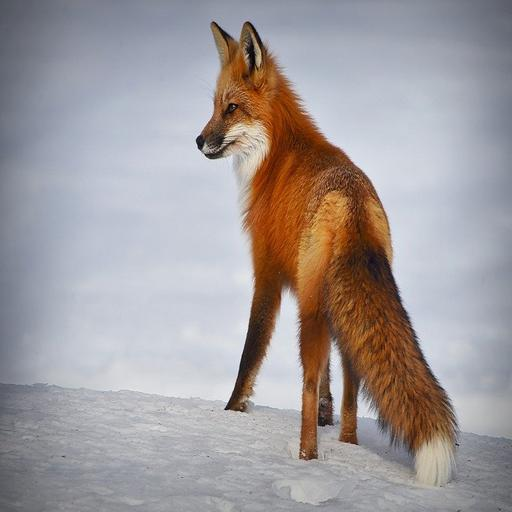Fox: (192, 19, 472, 488)
